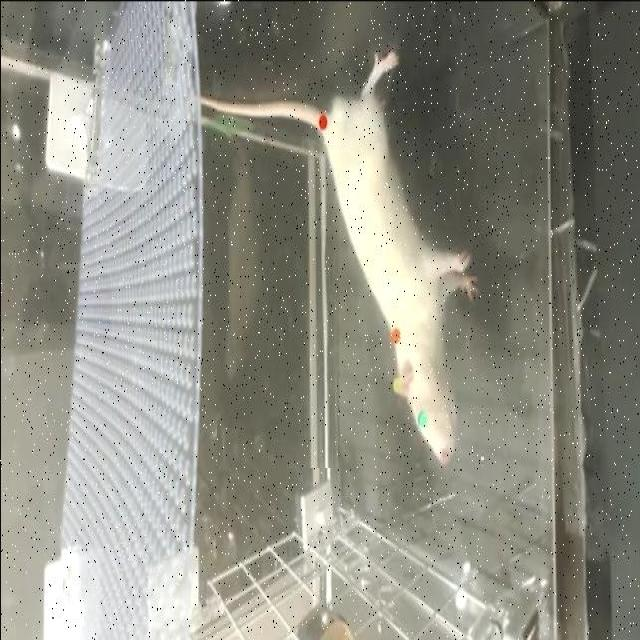rat: (217, 49, 483, 468)
